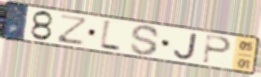8: (30, 10, 55, 41)
J: (172, 32, 199, 61)
L: (98, 18, 123, 53)
P: (201, 33, 234, 66)
S: (129, 24, 162, 58)
Z: (55, 14, 90, 46)
